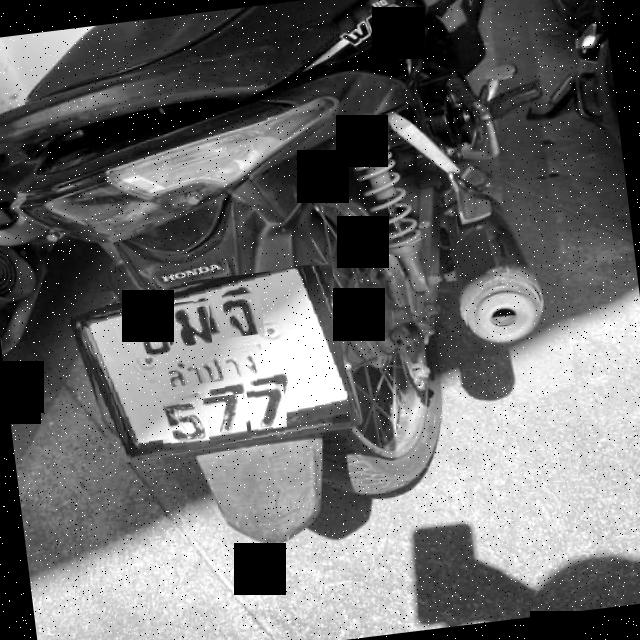letters: (155, 390, 210, 451), (245, 381, 288, 431), (170, 299, 213, 347), (130, 308, 171, 358), (203, 393, 247, 439), (222, 290, 264, 338)
license-plate: (80, 267, 350, 462)
province: (153, 344, 264, 389)
